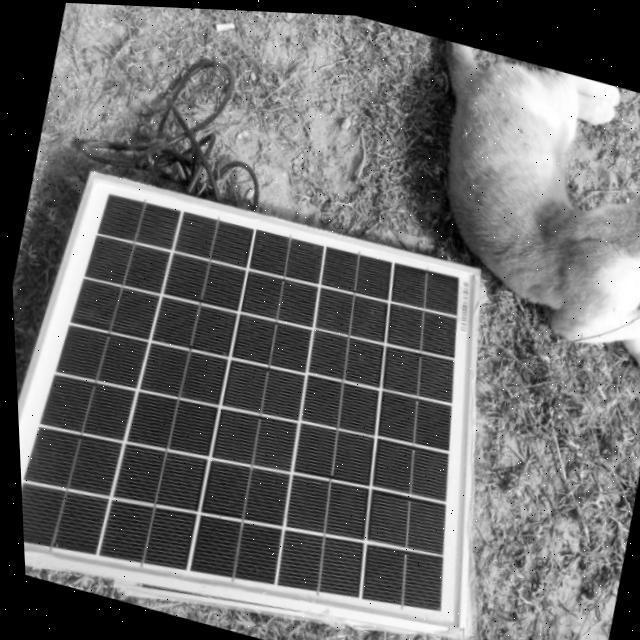Normal Solar Panel: (5, 150, 542, 640)
